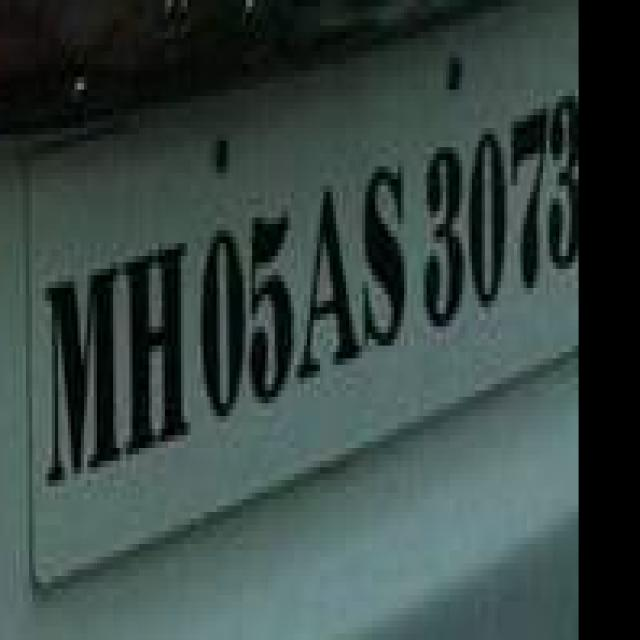license_plate: (0, 96, 601, 525)
